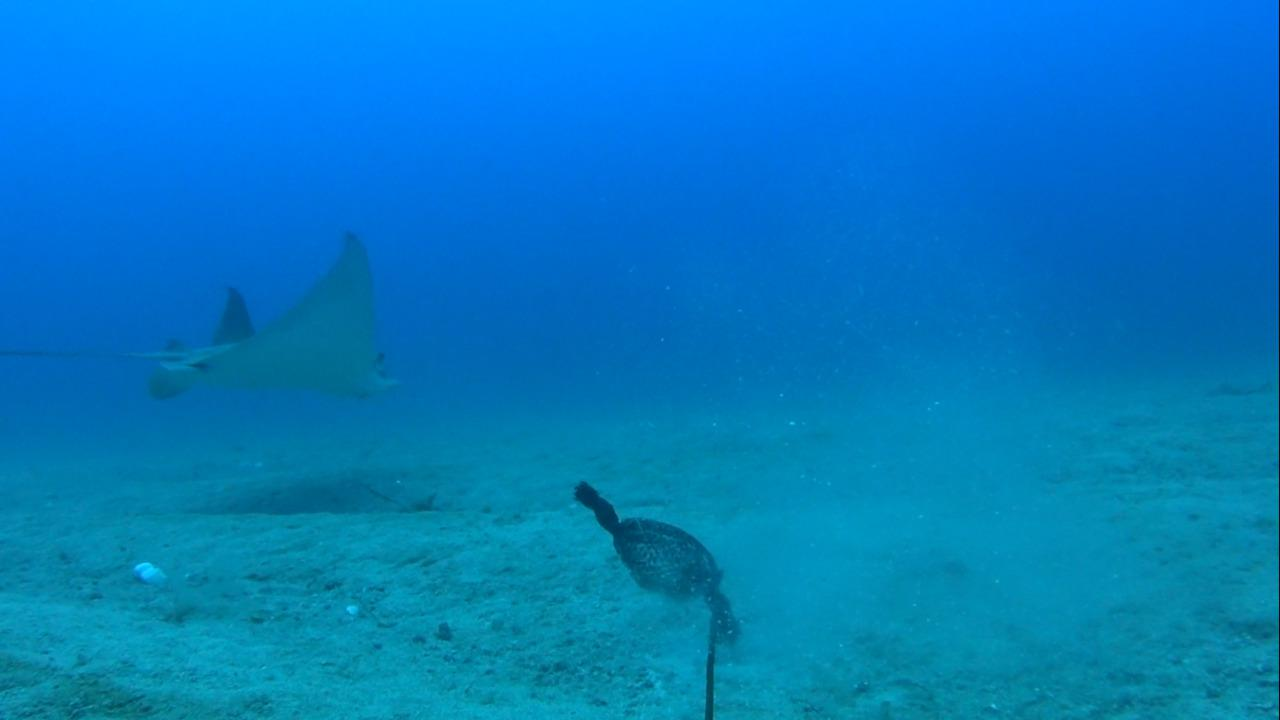myliobatis: (9, 221, 409, 414)
